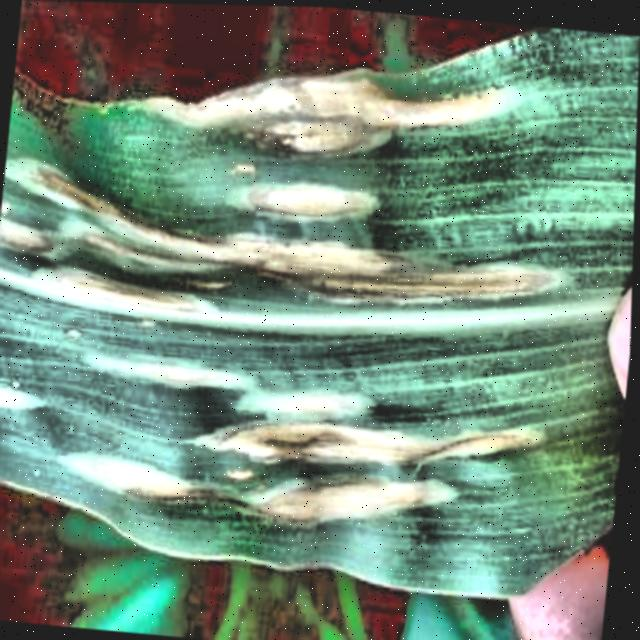blight: (0, 48, 583, 595)
